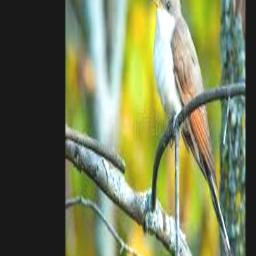Cuckoo: (152, 0, 236, 256)
